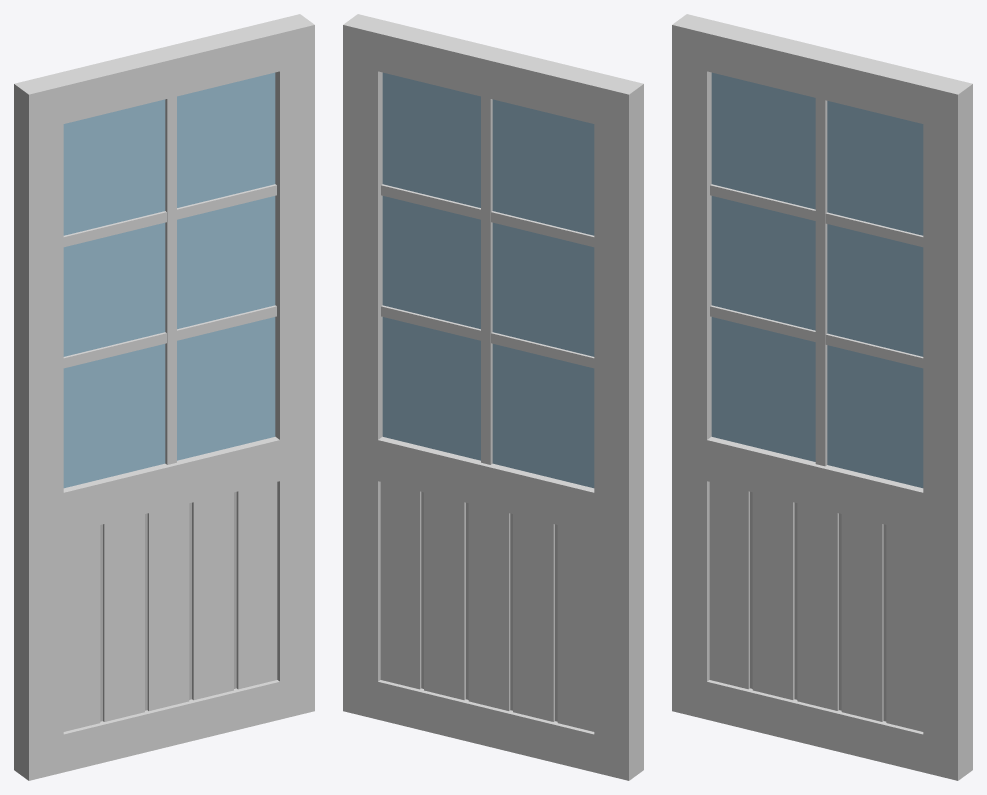
The model's file is Door6_C1.fbx.
3 renders of one model, left to right at view 1: azimuth 30°, elevation 25°; view 2: azimuth 150°, elevation 25°; view 3: azimuth 330°, elevation 25°, orthographic.
Parts seen in each view (by area): view 1: Door6_C1; view 2: Door6_C1; view 3: Door6_C1.
Part boxes in pixels (bbox=[...]): Door6_C1: bbox=[14, 14, 314, 780]; Door6_C1: bbox=[343, 14, 643, 780]; Door6_C1: bbox=[672, 14, 972, 780].
Size of the model in its own units: 0.89 by 2.04 by 0.08.
